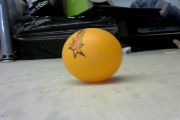PingPongBall: (62, 29, 122, 82)
